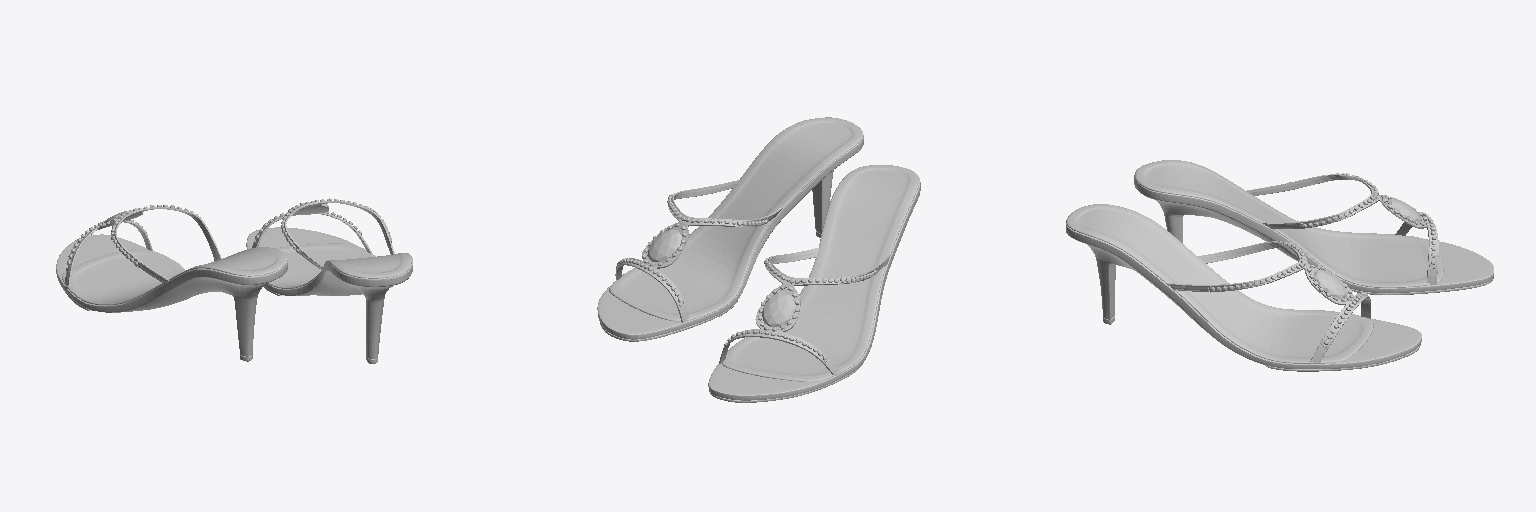
The model's file is heel.obj.
3 views of the same model, side by side, from view 1: azimuth 30°, elevation 25°; view 2: azimuth 150°, elevation 25°; view 3: azimuth 270°, elevation 25° (orthographic).
Parts seen in each view (by area): view 1: arch49_045_obj_02, arch49_045_obj_00, arch49_045_obj_07, arch49_045_obj_09, arch49_045_obj_04; view 2: arch49_045_obj_02, arch49_045_obj_07, arch49_045_obj_09, arch49_045_obj_00, arch49_045_obj_04, arch49_045_obj_06; view 3: arch49_045_obj_07, arch49_045_obj_02, arch49_045_obj_09, arch49_045_obj_00, arch49_045_obj_06, arch49_045_obj_04.
Boxes of the visible parts, box(x1,y1,x2,y2) form: arch49_045_obj_02: box(62, 207, 287, 304); arch49_045_obj_00: box(56, 234, 287, 356); arch49_045_obj_07: box(252, 201, 411, 288); arch49_045_obj_09: box(246, 227, 412, 358); arch49_045_obj_04: box(67, 205, 207, 265); arch49_045_obj_02: box(719, 165, 918, 381); arch49_045_obj_07: box(609, 117, 863, 322); arch49_045_obj_09: box(597, 137, 863, 339); arch49_045_obj_00: box(708, 178, 920, 400); arch49_045_obj_04: box(724, 258, 876, 359); arch49_045_obj_06: box(616, 193, 767, 302); arch49_045_obj_07: box(1066, 204, 1373, 364); arch49_045_obj_02: box(1135, 160, 1443, 287); arch49_045_obj_09: box(1066, 220, 1421, 368); arch49_045_obj_00: box(1134, 175, 1493, 292); arch49_045_obj_06: box(1210, 241, 1367, 344); arch49_045_obj_04: box(1302, 173, 1436, 264).
Bounding box in the file's own units: 8.14 × 3 × 11.32.